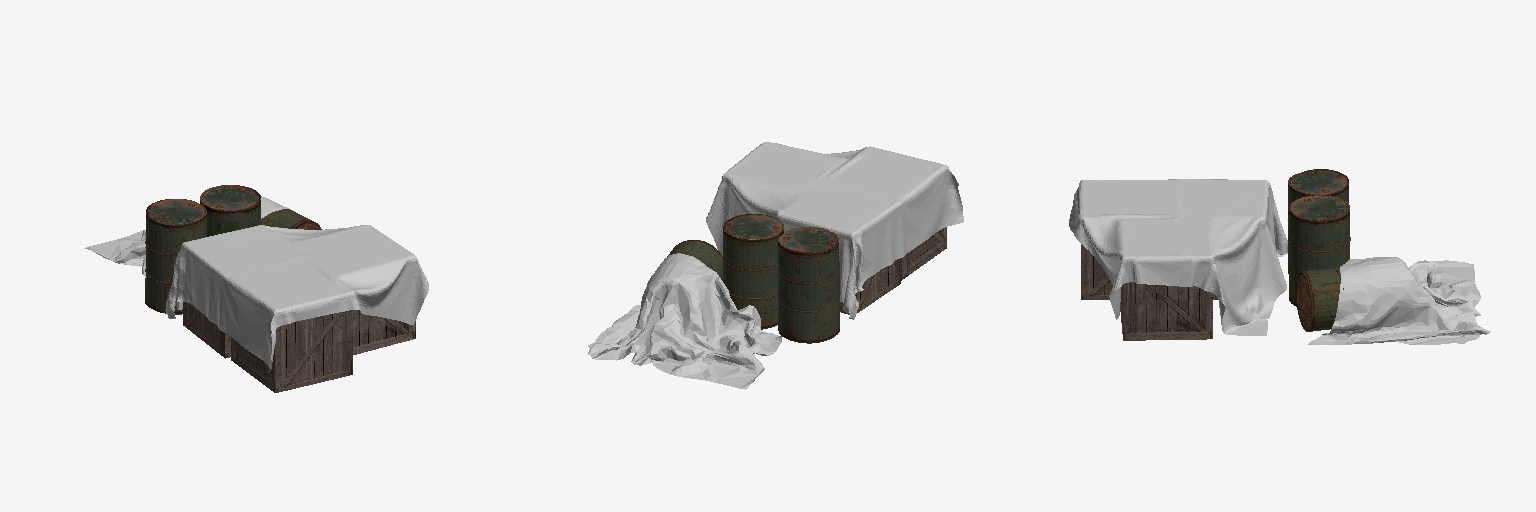
3 views of the same model, side by side, from view 1: azimuth 30°, elevation 25°; view 2: azimuth 150°, elevation 25°; view 3: azimuth 270°, elevation 25° (orthographic).
Parts seen in each view (by area): view 1: Cloth_Cloth_0, Crate_Crate_0, Barrel.002_Barrel_0, Barrel_Barrel_0, Crate.002_Crate_0, Cloth2_Cloth2_0, Crate.001_Crate_0, Barrel.001_Barrel_0; view 2: Cloth_Cloth_0, Cloth2_Cloth2_0, Barrel.002_Barrel_0, Barrel_Barrel_0, Crate.001_Crate_0, Crate_Crate_0, Barrel.001_Barrel_0; view 3: Cloth_Cloth_0, Cloth2_Cloth2_0, Crate.002_Crate_0, Barrel_Barrel_0, Barrel.001_Barrel_0, Barrel.002_Barrel_0, Crate_Crate_0.
Boxes of the visible parts, box(x1,y1,x2,y2) form: Cloth_Cloth_0: box(165, 225, 428, 372); Crate_Crate_0: box(231, 310, 352, 392); Barrel.002_Barrel_0: box(145, 199, 206, 314); Barrel_Barrel_0: box(200, 185, 260, 236); Crate.002_Crate_0: box(353, 310, 415, 354); Cloth2_Cloth2_0: box(85, 196, 294, 276); Crate.001_Crate_0: box(183, 302, 230, 358); Barrel.001_Barrel_0: box(261, 209, 321, 229); Cloth_Cloth_0: box(706, 142, 963, 319); Cloth2_Cloth2_0: box(588, 253, 781, 389); Barrel.002_Barrel_0: box(778, 227, 839, 343); Barrel_Barrel_0: box(723, 214, 783, 329); Crate.001_Crate_0: box(840, 258, 900, 314); Crate_Crate_0: box(901, 227, 946, 280); Barrel.001_Barrel_0: box(667, 240, 722, 280); Cloth_Cloth_0: box(1069, 179, 1287, 335); Cloth2_Cloth2_0: box(1308, 257, 1490, 344); Crate.002_Crate_0: box(1120, 282, 1212, 340); Barrel_Barrel_0: box(1288, 195, 1350, 306); Barrel.001_Barrel_0: box(1296, 267, 1343, 331); Barrel.002_Barrel_0: box(1288, 169, 1348, 273); Crate_Crate_0: box(1081, 244, 1112, 299).
Size of the model in its own units: 2.26 by 1.07 by 4.5.
Materials: 4 (2 with a texture image).